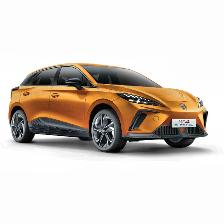EV: (10, 66, 211, 154)
